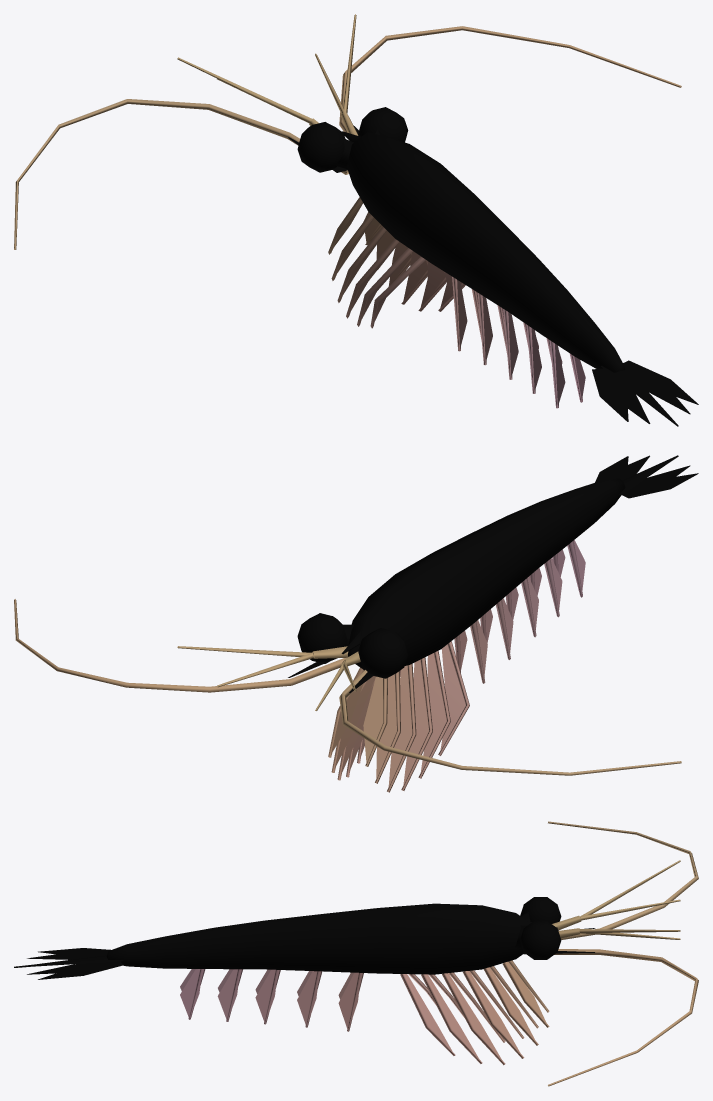
Rendered from krill_game.glb.
3 views of the same model, one above another, from view 1: azimuth 30°, elevation 25°; view 2: azimuth 150°, elevation 25°; view 3: azimuth 270°, elevation 25° (orthographic). The views are drawn at different scales.
Parts seen in each view (by area): view 1: krill_game; view 2: krill_game; view 3: krill_game.
Part boxes in pixels (x1,y1,x2,y2): krill_game: (14,14,698,426); krill_game: (14,455,698,792); krill_game: (14,821,698,1086).
Bounding box in the file's own units: 0.0331 × 0.0093 × 0.0363.
